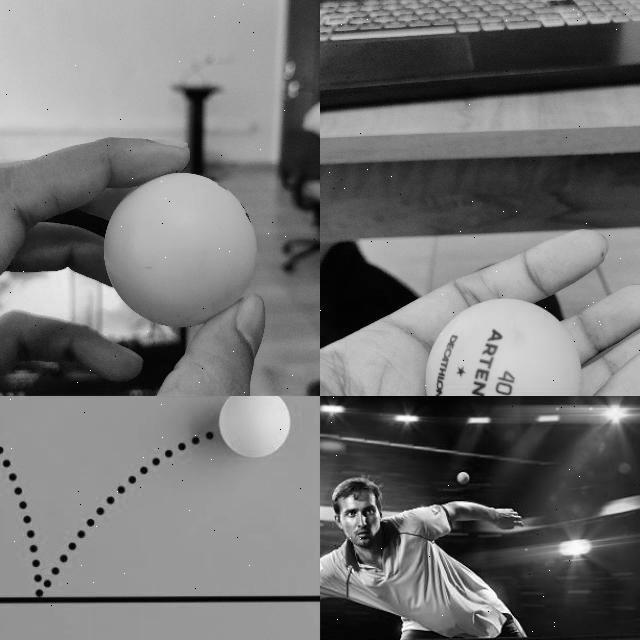ping-pong-ball: (102, 169, 258, 327), (422, 298, 580, 395), (217, 396, 292, 457), (456, 472, 470, 484)
